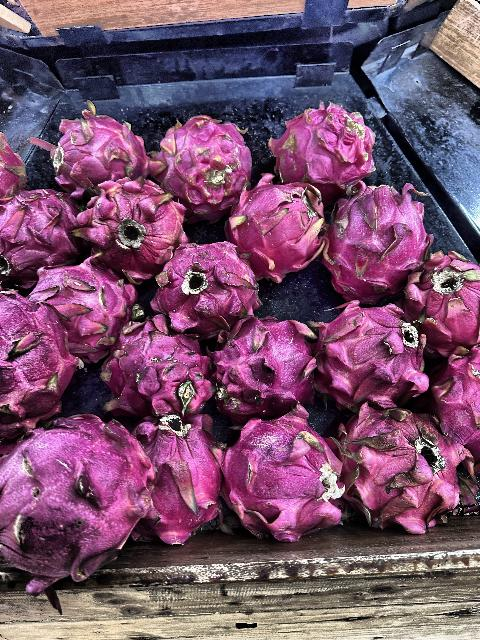buah-naga-matang: (2, 424, 150, 582), (327, 401, 473, 524), (214, 412, 343, 546), (306, 301, 428, 404), (0, 286, 84, 434), (322, 176, 428, 292), (254, 98, 386, 188), (140, 113, 248, 210), (211, 316, 317, 410), (80, 180, 192, 268), (41, 100, 147, 190), (226, 173, 320, 274), (109, 327, 215, 409), (30, 264, 140, 342), (398, 248, 480, 350), (160, 244, 262, 324), (1, 187, 81, 271), (430, 348, 480, 462)
